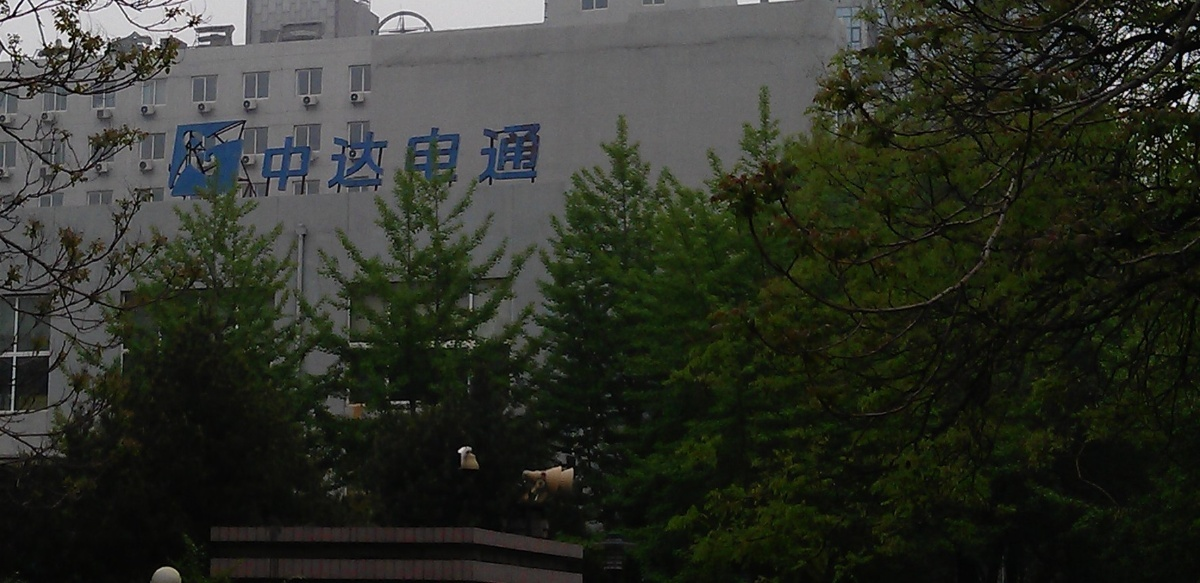text: (273, 124, 288, 193), (289, 124, 304, 193), (305, 124, 320, 193), (321, 124, 336, 193), (337, 124, 352, 193), (353, 124, 368, 193), (369, 124, 384, 193), (385, 124, 400, 193), (401, 124, 416, 193), (417, 124, 432, 193), (433, 124, 448, 193), (449, 124, 464, 193), (465, 124, 480, 193), (481, 124, 496, 193), (497, 124, 512, 193), (513, 124, 528, 193), (529, 124, 544, 193), (261, 124, 272, 193), (545, 124, 548, 193)
